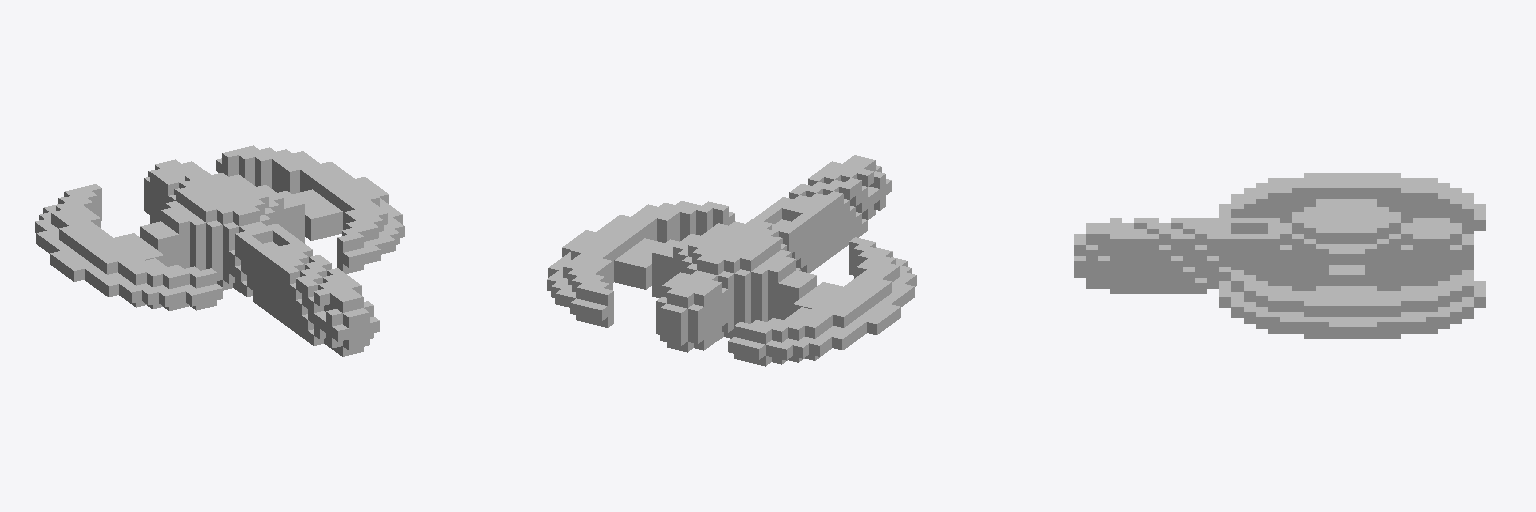
File: poleaxe.obj
3 renders of one model, left to right at view 1: azimuth 30°, elevation 25°; view 2: azimuth 150°, elevation 25°; view 3: azimuth 270°, elevation 25°, orthographic.
Visible parts, largest first — view 1: object 1; view 2: object 1; view 3: object 1.
Part boxes in pixels (left/top/right/bottom): object 1: left=35, top=145, right=404, bottom=356; object 1: left=547, top=155, right=916, bottom=366; object 1: left=1074, top=173, right=1485, bottom=338.
Bounding box in the file's own units: 3 × 0.7 × 3.4.